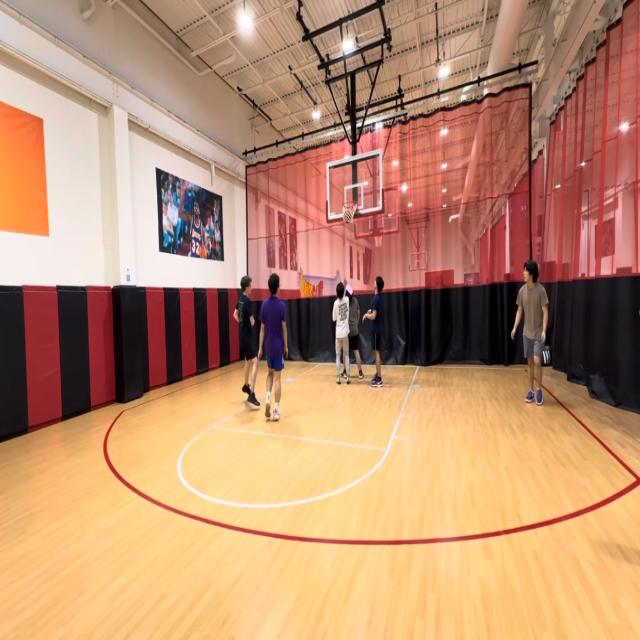Basketball Rim: (342, 200, 358, 224)
